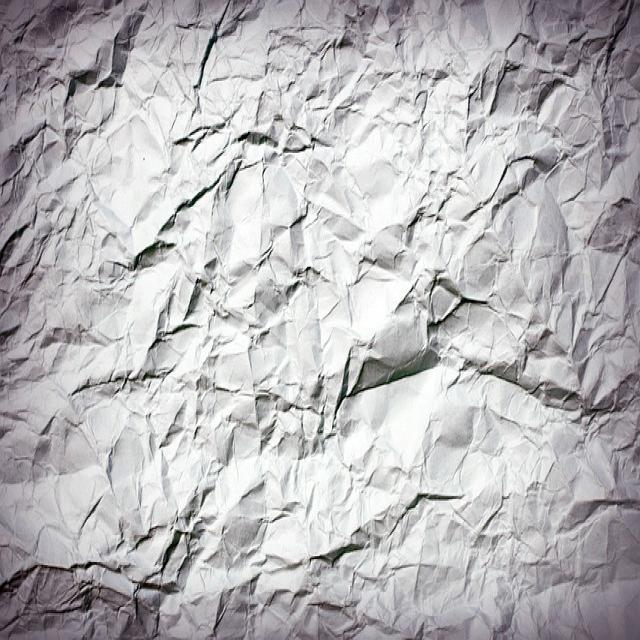paper: (16, 21, 616, 612)
